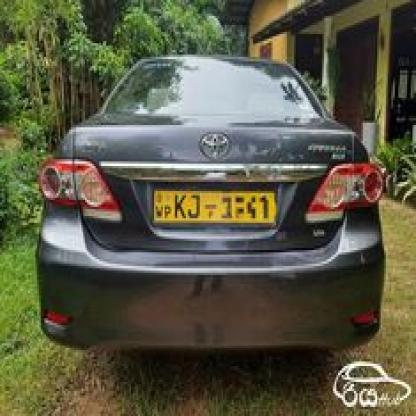car back: (34, 48, 383, 359)
number plate: (152, 184, 272, 222)
